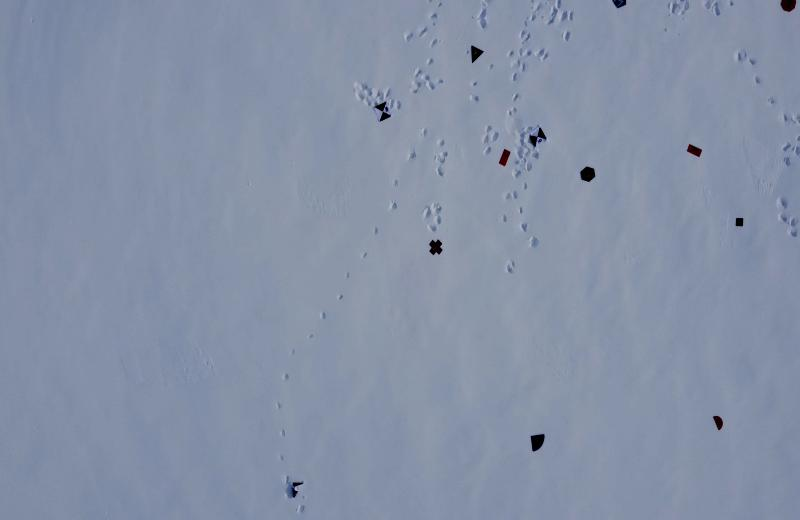Cross: (428, 238, 444, 256)
Hexagon: (580, 165, 596, 183)
Octagon: (780, 0, 797, 14)
Pentagon: (611, 0, 628, 9)
Quarter Circle: (530, 434, 547, 452)
Rectangle: (496, 148, 512, 167), (686, 143, 703, 158)
Semi Circle: (713, 414, 723, 432)
Square: (735, 217, 745, 228)
Triangle: (468, 44, 484, 65)
